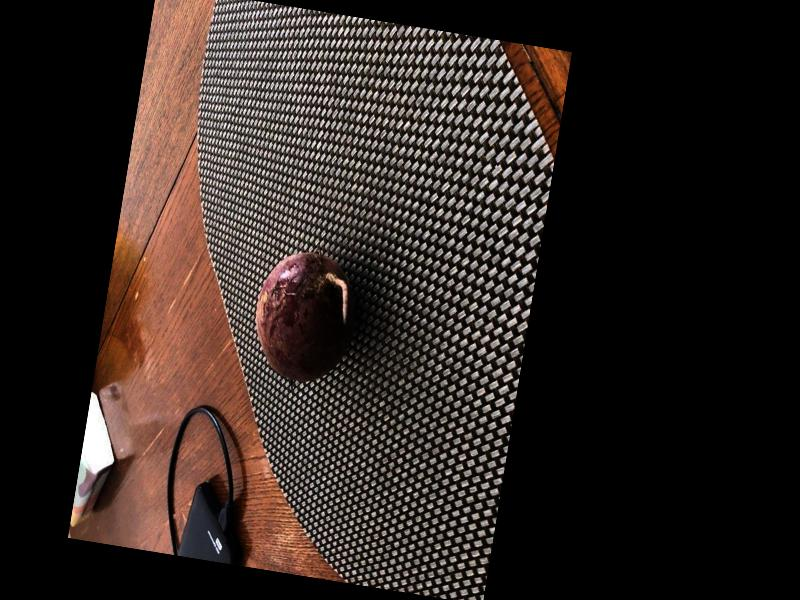Beet: (246, 246, 363, 388)
